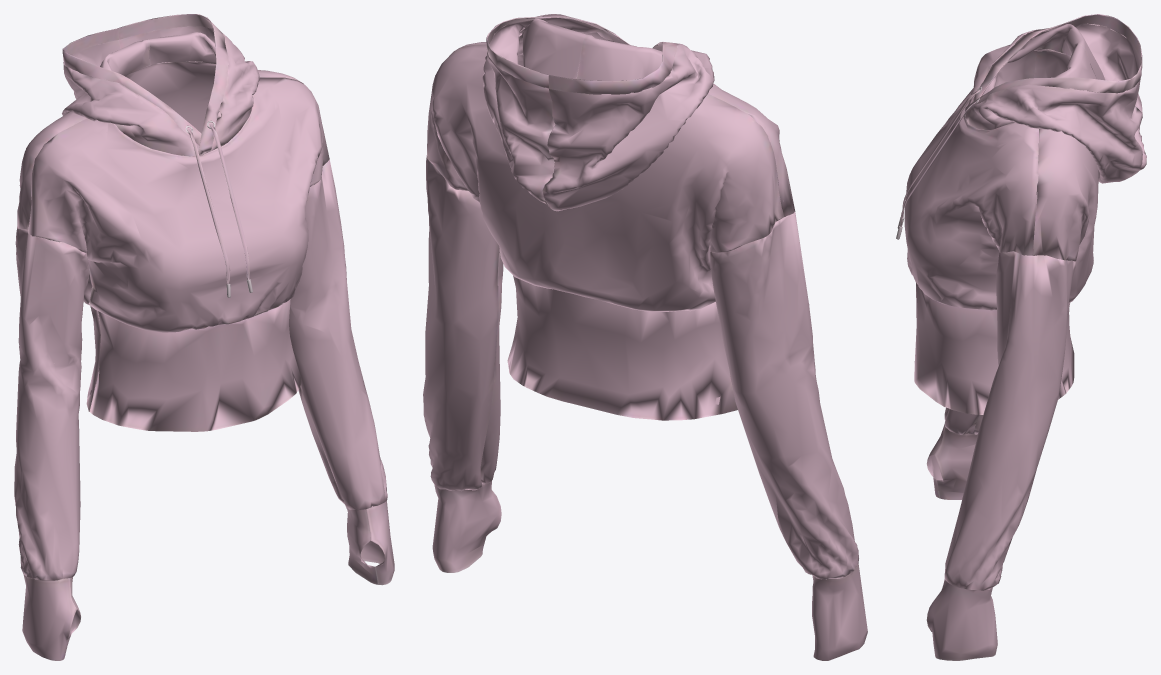
Rendered from hoodie-corto-rosa-lite.glb.
3 views of the same model, side by side, from view 1: azimuth 30°, elevation 25°; view 2: azimuth 150°, elevation 25°; view 3: azimuth 270°, elevation 25° (orthographic). The views are drawn at different scales.
Parts seen in each view (by area): view 1: Object_6; view 2: Object_6; view 3: Object_6.
Part boxes in pixels (x1,y1,x2,y2): Object_6: (14, 14, 394, 660); Object_6: (423, 14, 867, 660); Object_6: (900, 14, 1146, 660).
Bounding box in the file's own units: 0.5034 × 0.715 × 0.3052.
Materials: 2 (1 with a texture image).
